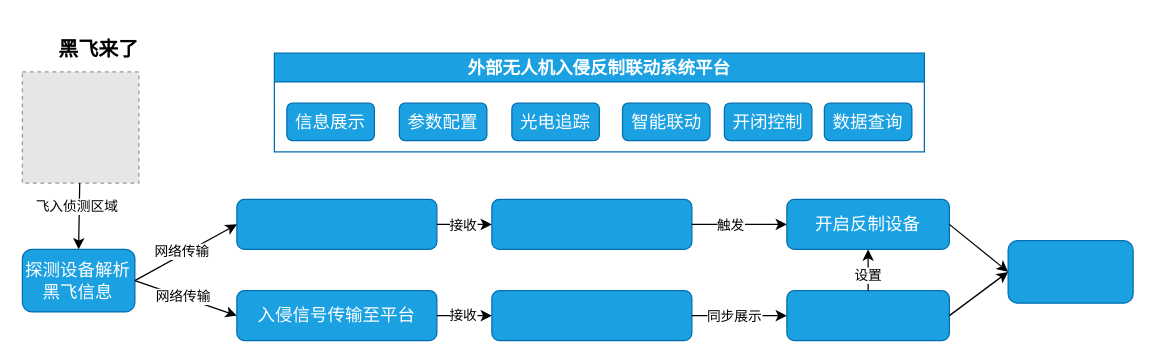
Some shapes in this 1155 by 363 pixel diagram are drawn without their labels. Grey dashed boxes stand in for pictures. The centre of each missing label's shape, as x and y in pixels:
"信息展示和语音告警" belongs at (x=867, y=315).
"入侵信号传输至反制设备" belongs at (x=336, y=223).
"反制设备接收入侵信号" belongs at (x=591, y=223).
"实施防御" belongs at (x=1070, y=271).
"平台接收入侵信号" belongs at (x=591, y=315).
